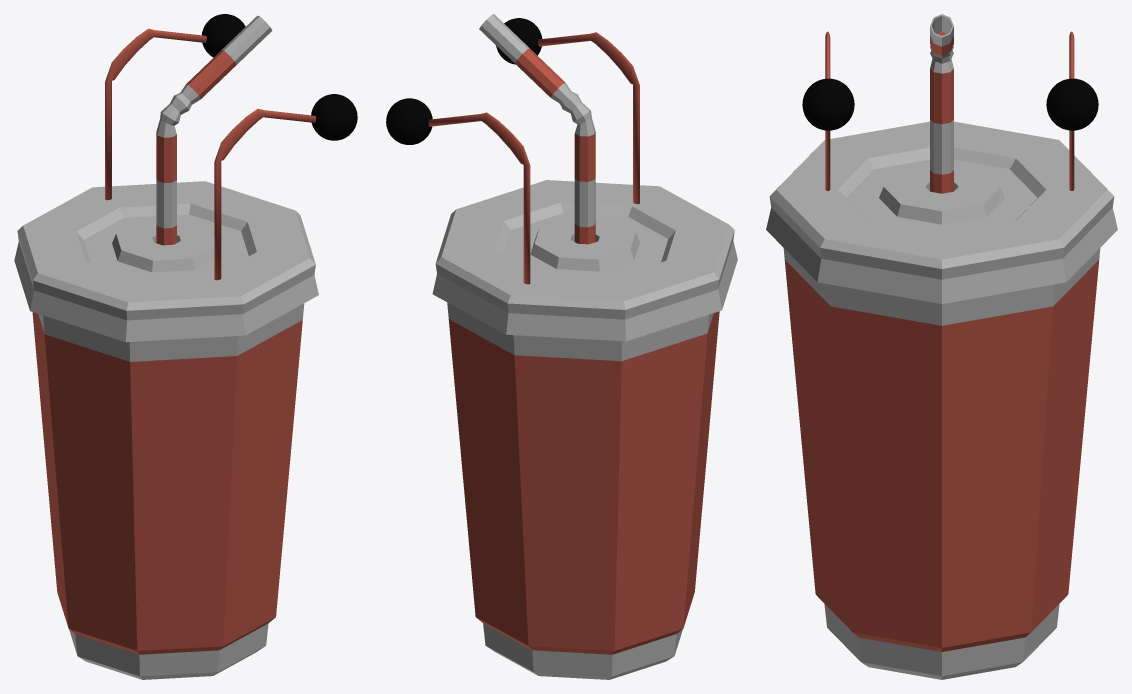
Rendered from Soda.fbx.
3 views of the same model, side by side, from view 1: azimuth 30°, elevation 25°; view 2: azimuth 150°, elevation 25°; view 3: azimuth 270°, elevation 25° (orthographic). The views are drawn at different scales.
Parts seen in each view (by area): view 1: Soda; view 2: Soda; view 3: Soda.
Boxes of the visible parts, x1,y1,x2,y2 form: Soda: [14, 14, 357, 679]; Soda: [386, 14, 737, 679]; Soda: [766, 14, 1117, 679].
Bounding box in the file's own units: 91.35 × 192 × 91.18.
